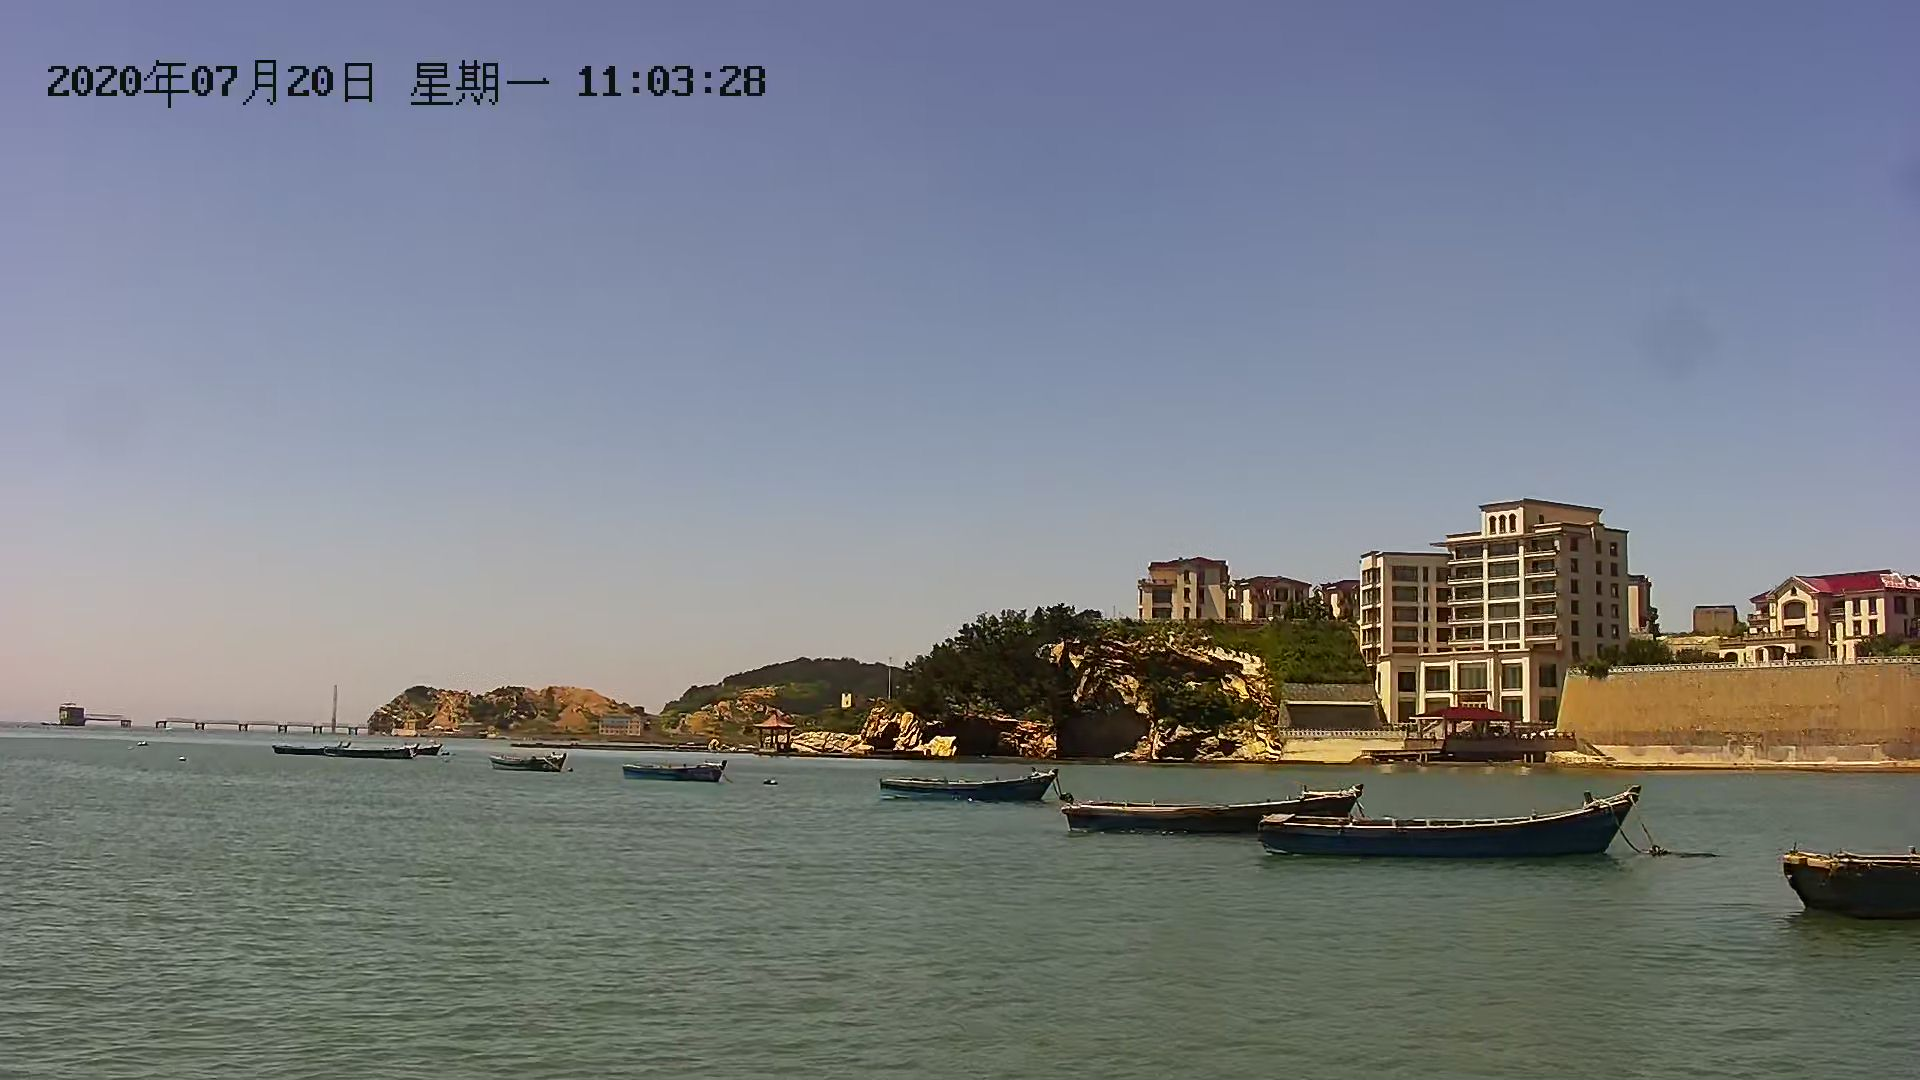boat: (1254, 791, 1638, 866), (1055, 789, 1358, 841), (872, 767, 1062, 806), (615, 756, 731, 787), (481, 749, 568, 781), (344, 738, 425, 765), (272, 738, 348, 760)
harbor: (55, 702, 371, 741)
